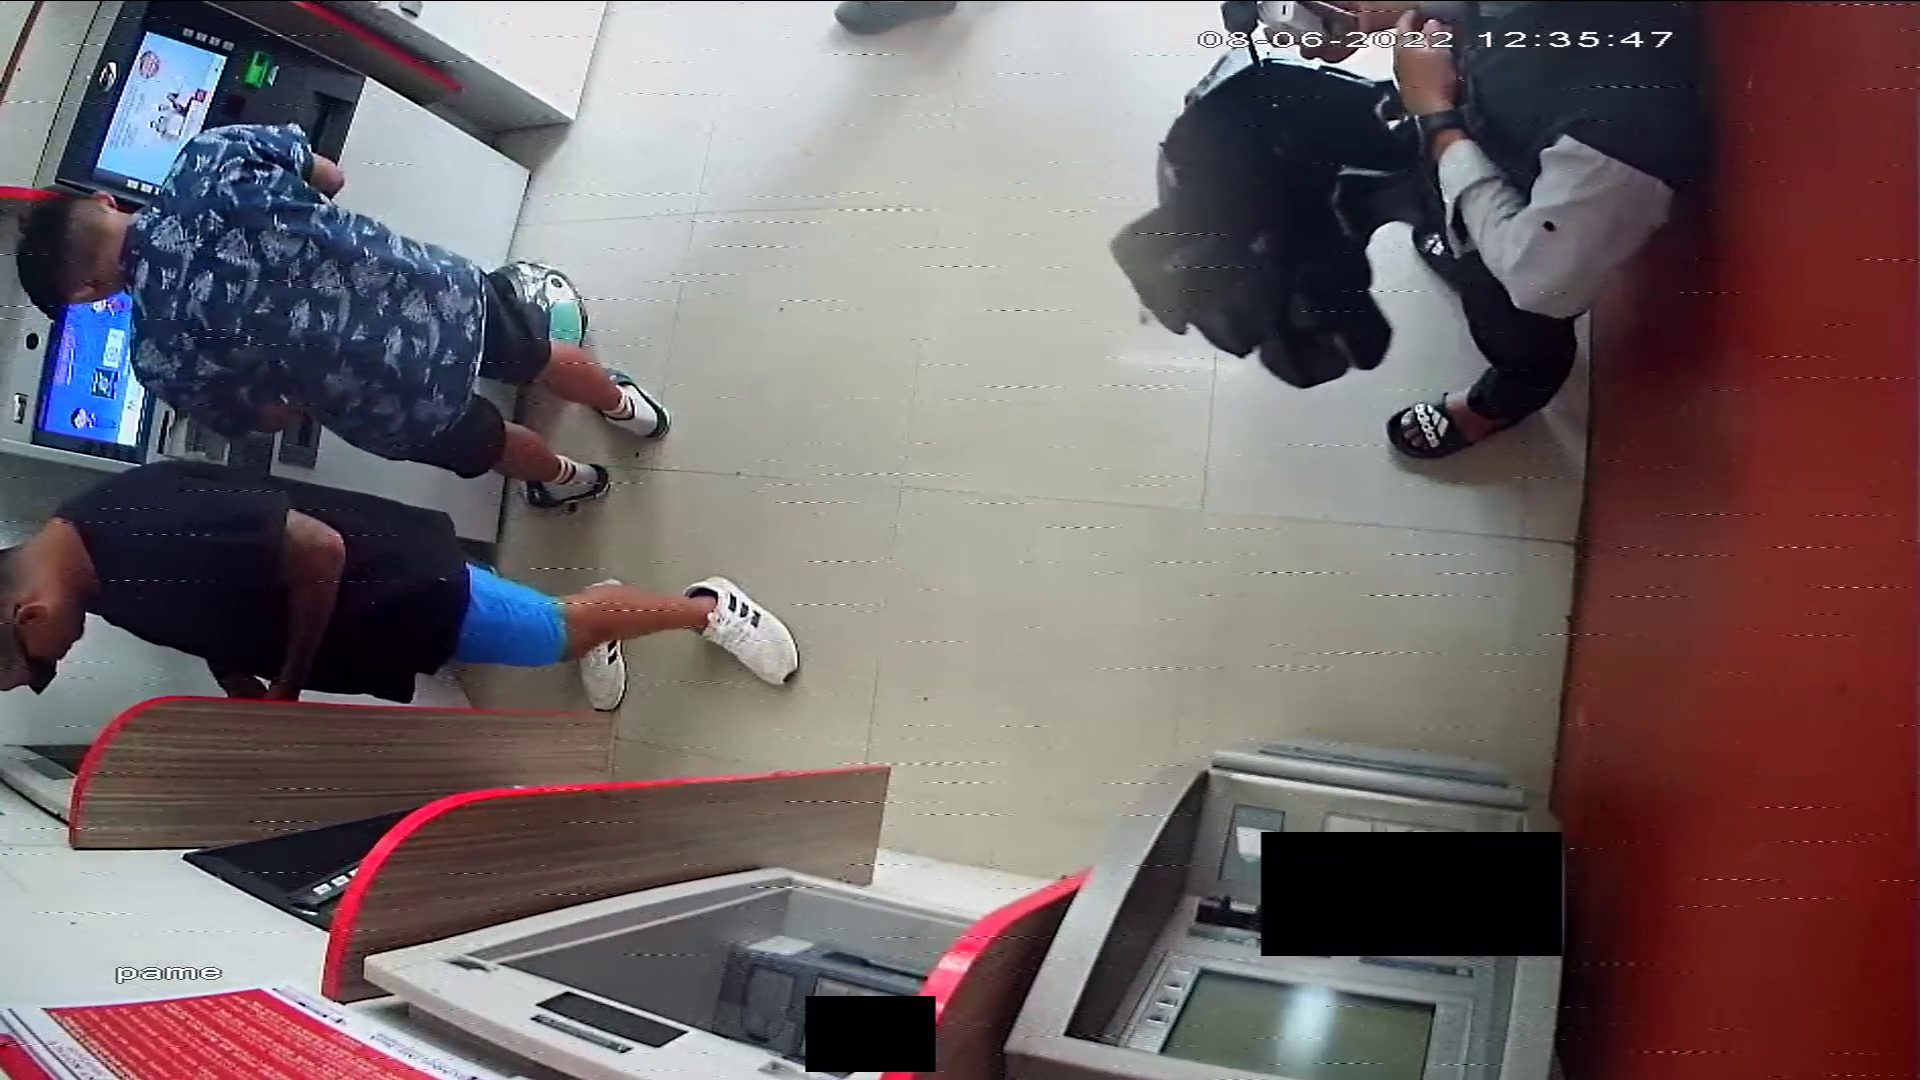person: (9, 122, 675, 506), (1, 458, 799, 712), (1373, 1, 1695, 460)
